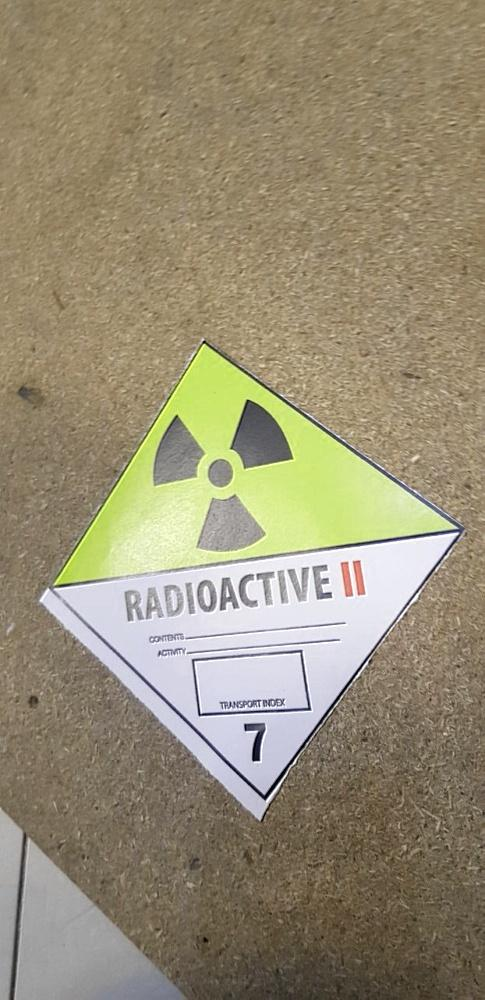radioactive: (33, 342, 472, 822)
